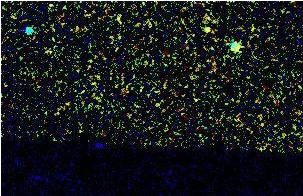star: (191, 16, 221, 46)
